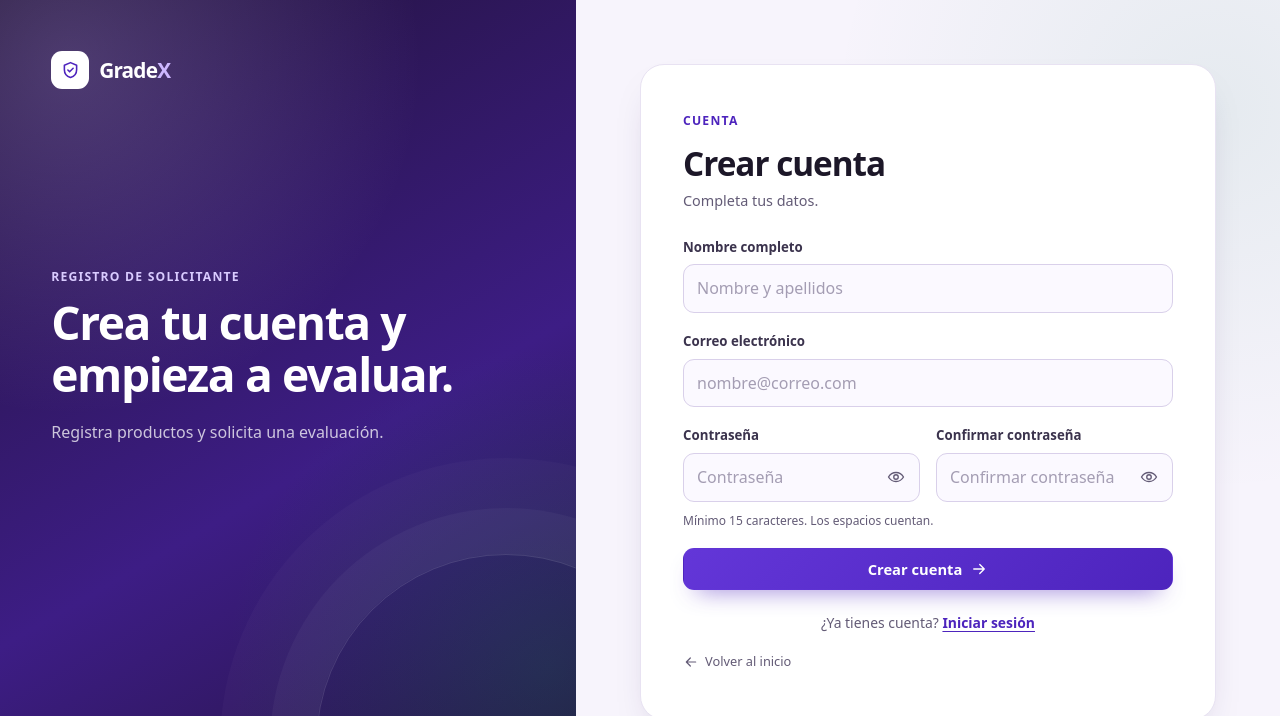
Test case: RegisterPage › valida obligatorios y confirmación de contraseña
Click the button "Crear cuenta".
click(928, 569)  # box 683,548 -> 1173,590
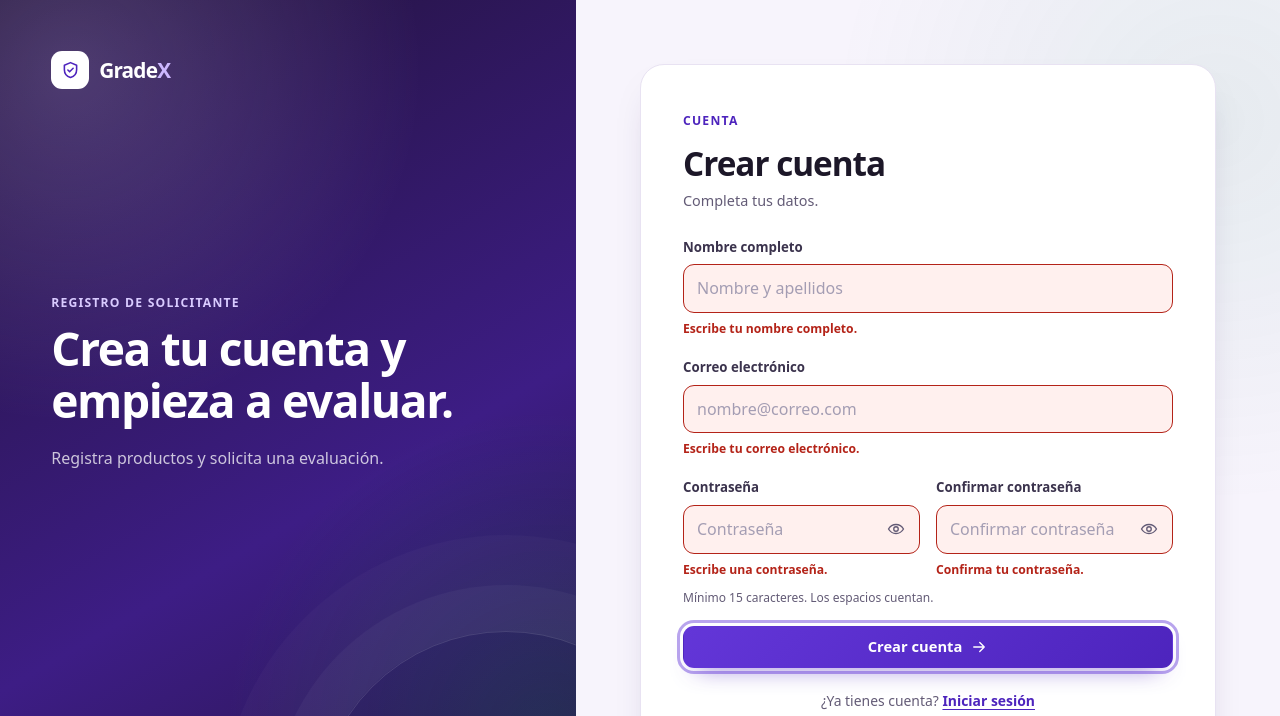
Expected: the text "Escribe tu nombre completo." is shown, 683,320 -> 857,337
Expected: the text "Escribe tu correo electrónico." is shown, 683,440 -> 860,457
Expected: the text "Escribe una contraseña." is shown, 683,560 -> 828,578
